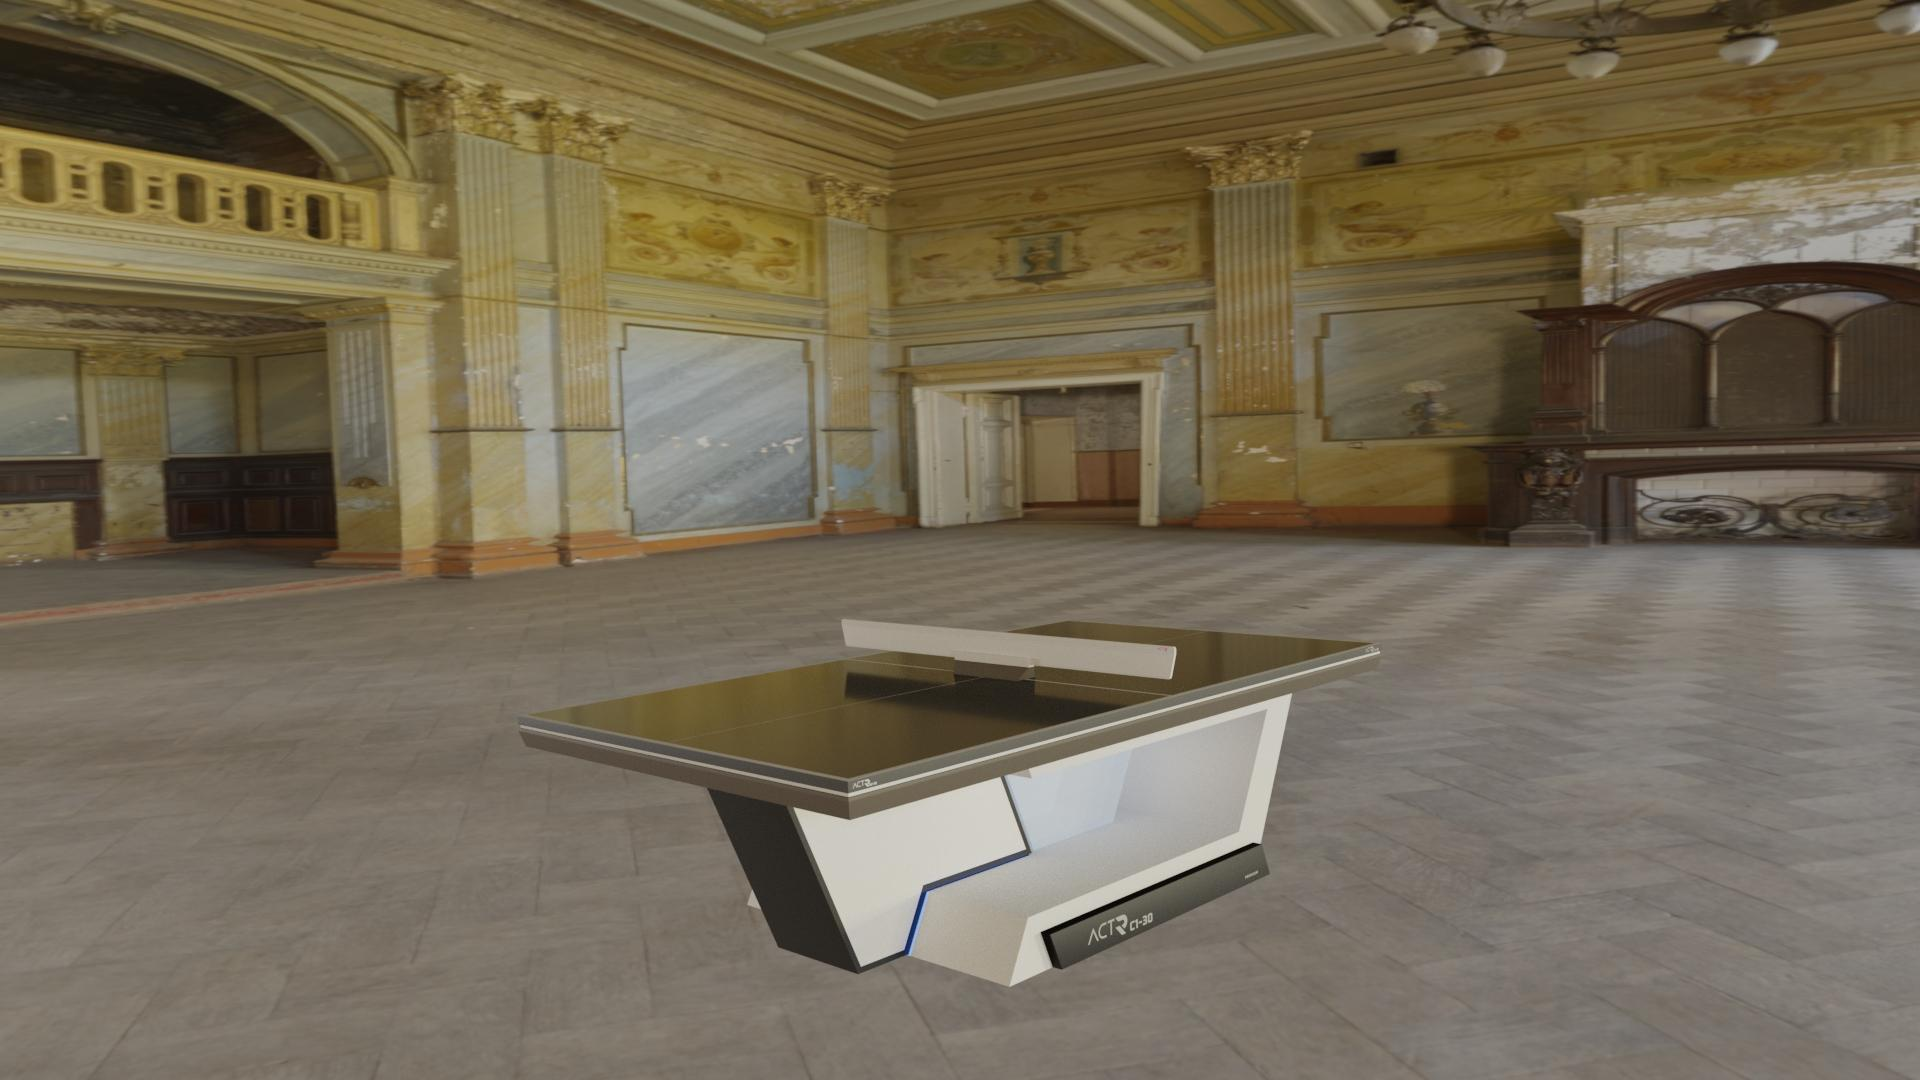table: (526, 621, 1374, 778)
